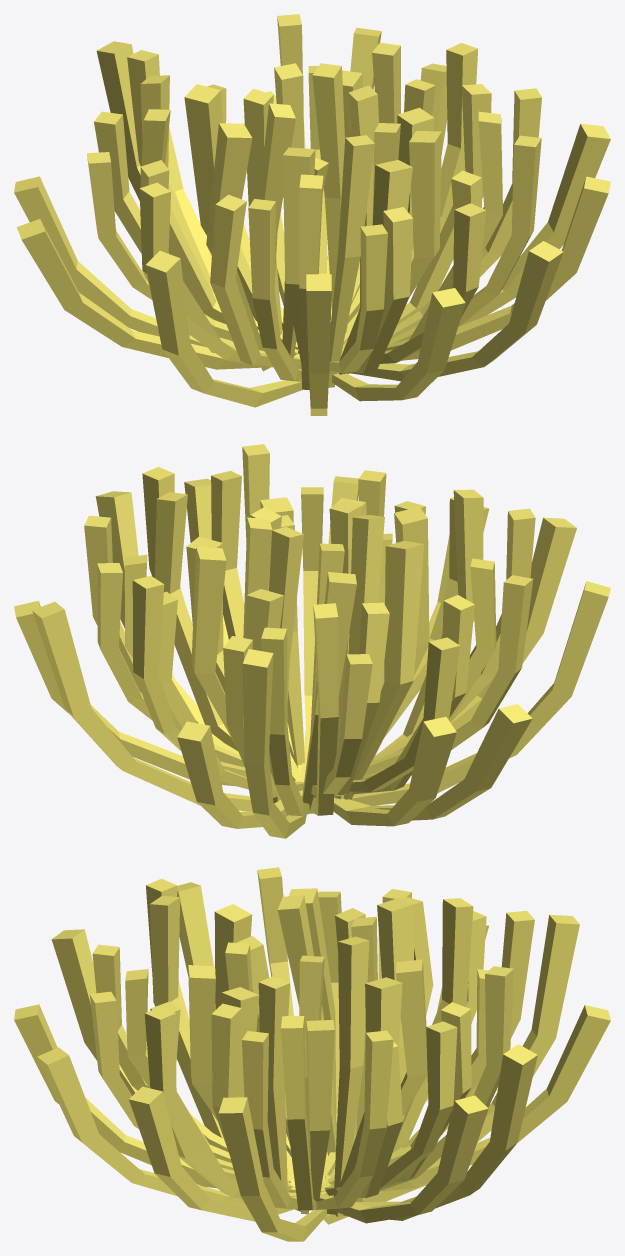
File: Coral_021.glb
The picture shows the model from 3 angles, top to bottom: view 1: azimuth 30°, elevation 25°; view 2: azimuth 150°, elevation 25°; view 3: azimuth 270°, elevation 25°; orthographic projection. The views are drawn at different scales.
Parts seen in each view (by area): view 1: Coral_021; view 2: Coral_021; view 3: Coral_021.
Boxes of the visible parts, bbox=[...] form: Coral_021: bbox=[14, 14, 610, 415]; Coral_021: bbox=[14, 444, 610, 838]; Coral_021: bbox=[14, 867, 610, 1241].
Bounding box in the file's own units: 1.18 × 0.6834 × 1.23.
1 material, 1 textured.
